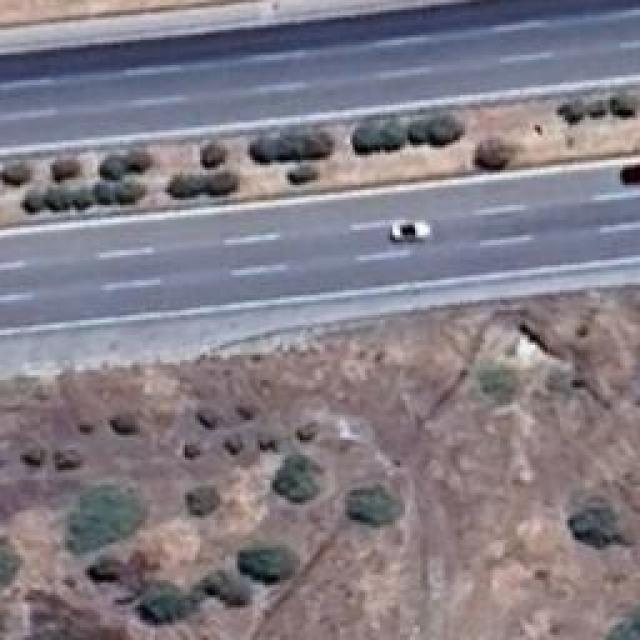Tree: (68, 485, 149, 555), (238, 532, 301, 591), (265, 455, 330, 508), (343, 480, 410, 531), (138, 580, 192, 635), (570, 503, 630, 552), (208, 568, 259, 612), (190, 135, 232, 172), (475, 135, 515, 169), (430, 108, 466, 143), (185, 485, 224, 517), (293, 412, 329, 445), (115, 172, 150, 205), (110, 410, 146, 442), (52, 445, 87, 476), (376, 120, 404, 158), (40, 185, 73, 217), (190, 401, 222, 434), (0, 157, 31, 191), (90, 178, 119, 213), (283, 162, 322, 188), (272, 130, 304, 161), (175, 170, 205, 203), (350, 125, 383, 155), (210, 173, 242, 203), (610, 88, 635, 125), (305, 127, 331, 162), (50, 150, 78, 182), (558, 98, 586, 129), (233, 398, 261, 425), (103, 153, 130, 180), (185, 440, 212, 467), (250, 135, 278, 161), (20, 442, 45, 471), (583, 93, 611, 118), (73, 185, 97, 214), (258, 428, 281, 455), (405, 115, 427, 142), (226, 433, 246, 459)
